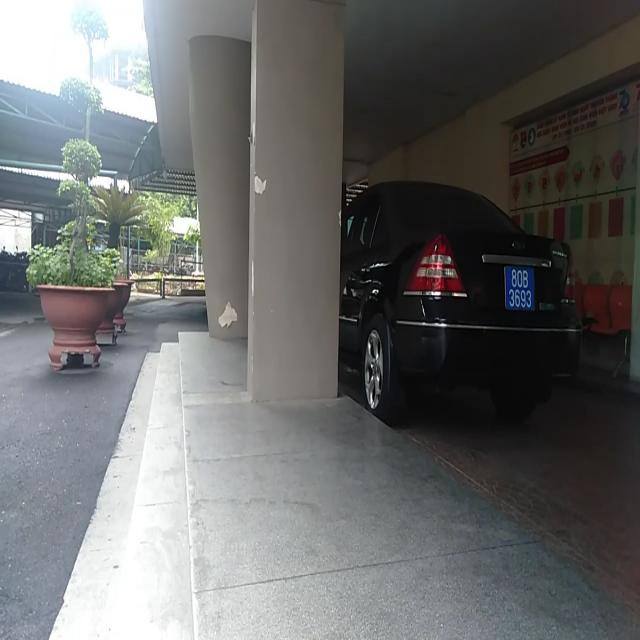bien_xanh: (503, 262, 536, 311)
